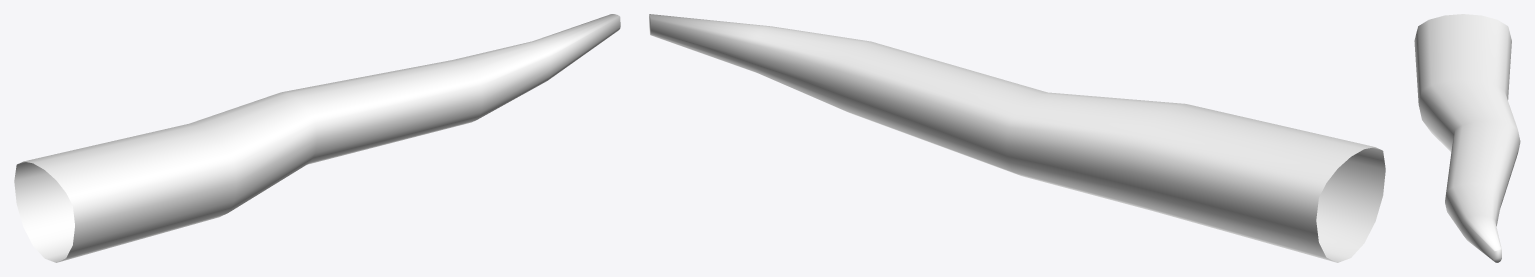
File: Galho.fbx
3 views of the same model, side by side, from view 1: azimuth 30°, elevation 25°; view 2: azimuth 150°, elevation 25°; view 3: azimuth 270°, elevation 25° (orthographic). The views are drawn at different scales.
Visible parts, largest first — view 1: Galho; view 2: Galho; view 3: Galho.
Boxes of the visible parts, box(x1,y1,x2,y2) form: Galho: box(14, 14, 620, 262); Galho: box(649, 14, 1385, 262); Galho: box(1414, 14, 1520, 262).
Size of the model in its own units: 2011 by 286 by 387.
